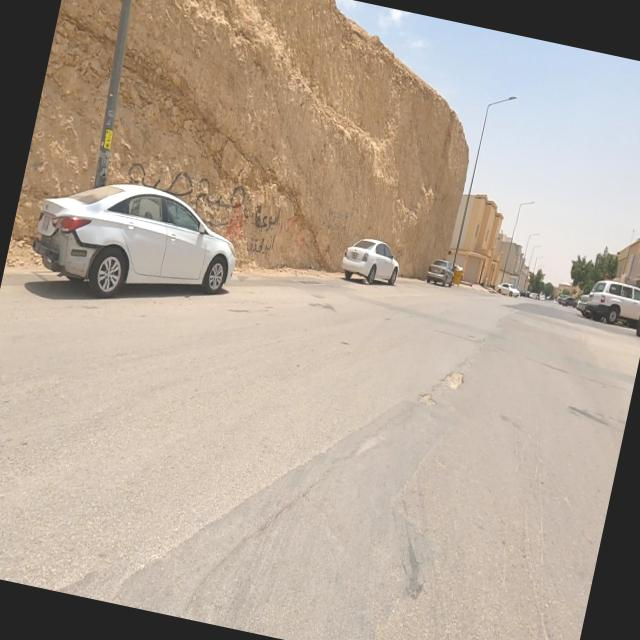Graffiti: (116, 156, 318, 266)
